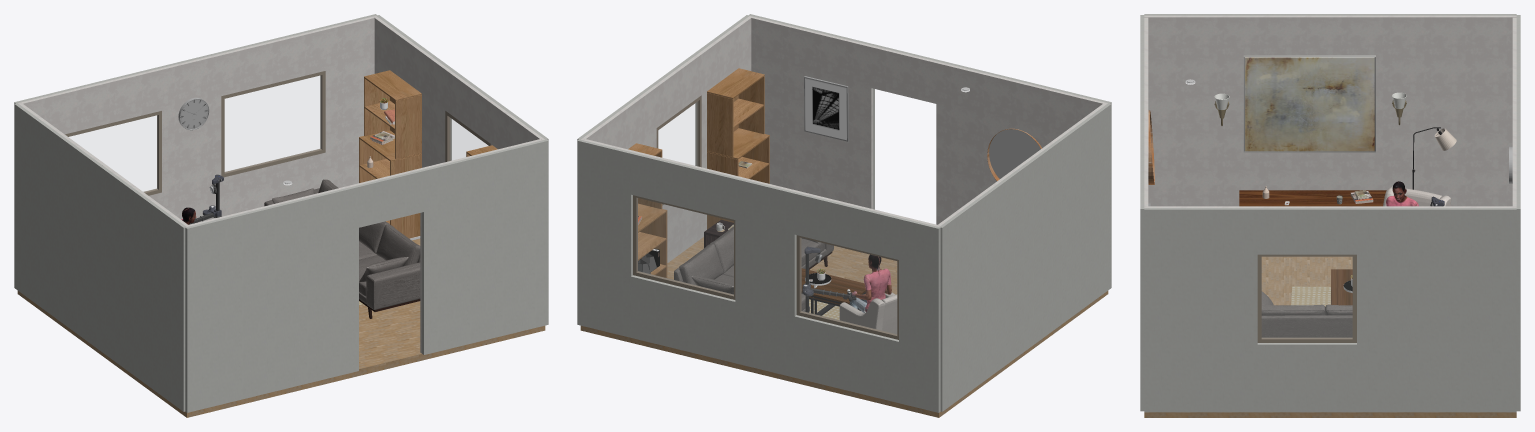
3 views of the same model, side by side, from view 1: azimuth 30°, elevation 25°; view 2: azimuth 150°, elevation 25°; view 3: azimuth 270°, elevation 25° (orthographic). The views are drawn at different scales.
Parts seen in each view (by area): view 1: world (×11), glass (×3), room_geometry_living_room__v0, frame (×2); view 2: world (×15), glass (×3), room_geometry_living_room__v0, frame (×3), base_link; view 3: world (×14), glass, room_geometry_living_room__v0, Shader1.002, frame, living_room_rug_0.
Boxes of the visible parts, left/top/right/bottom form: world (×11): left=14, top=14, right=548, bottom=412; glass (×3): left=69, top=76, right=487, bottom=191; room_geometry_living_room__v0: left=17, top=238, right=545, bottom=417; frame (×2): left=65, top=71, right=325, bottom=195; world (×15): left=577, top=14, right=1111, bottom=412; glass (×3): left=637, top=102, right=896, bottom=334; room_geometry_living_room__v0: left=580, top=237, right=1108, bottom=417; frame (×3): left=633, top=95, right=898, bottom=339; base_link: left=863, top=268, right=890, bottom=311; world (×14): left=1140, top=14, right=1520, bottom=412; glass: left=1262, top=257, right=1352, bottom=337; room_geometry_living_room__v0: left=1144, top=256, right=1516, bottom=417; Shader1.002: left=1239, top=190, right=1386, bottom=206; frame: left=1257, top=254, right=1356, bottom=342; living_room_rug_0: left=1291, top=286, right=1330, bottom=306.
Size of the model in its own units: 5.6 by 2.8 by 4.6.
Materials: 57 (33 with a texture image).
